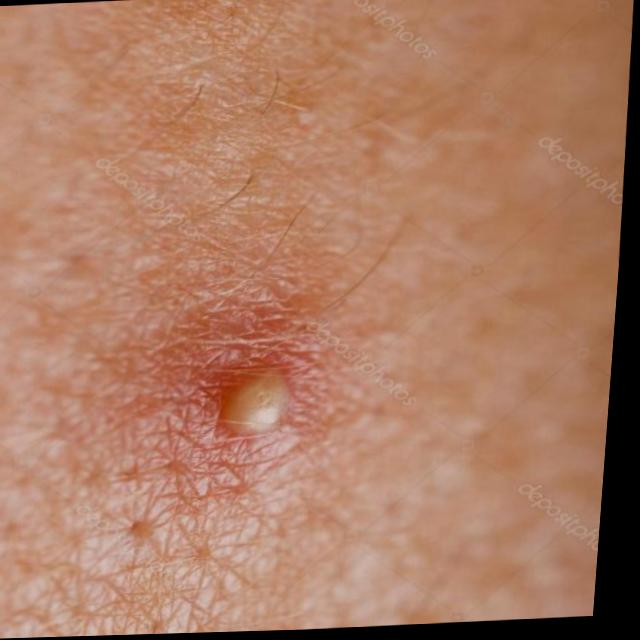pustule: (172, 338, 326, 491)
